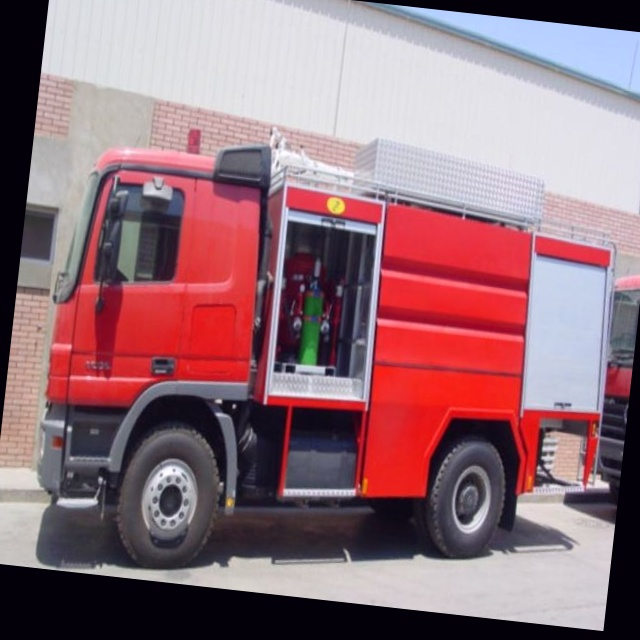Fire-truck: (24, 106, 631, 617)
